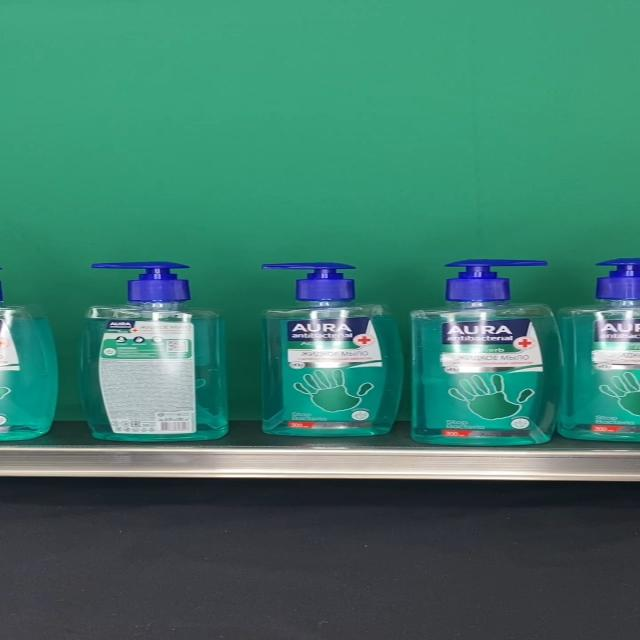Bottle: (410, 258, 564, 446), (75, 262, 228, 440), (262, 263, 403, 437)
Cap: (446, 259, 548, 301), (89, 262, 188, 304), (262, 263, 356, 301)
